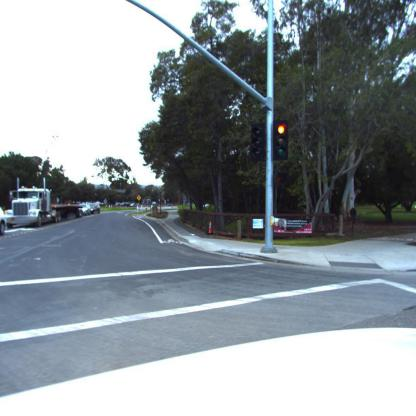car: (81, 202, 100, 215)
traffic light: (274, 122, 290, 161), (251, 124, 266, 163)
truck: (5, 188, 57, 232)
